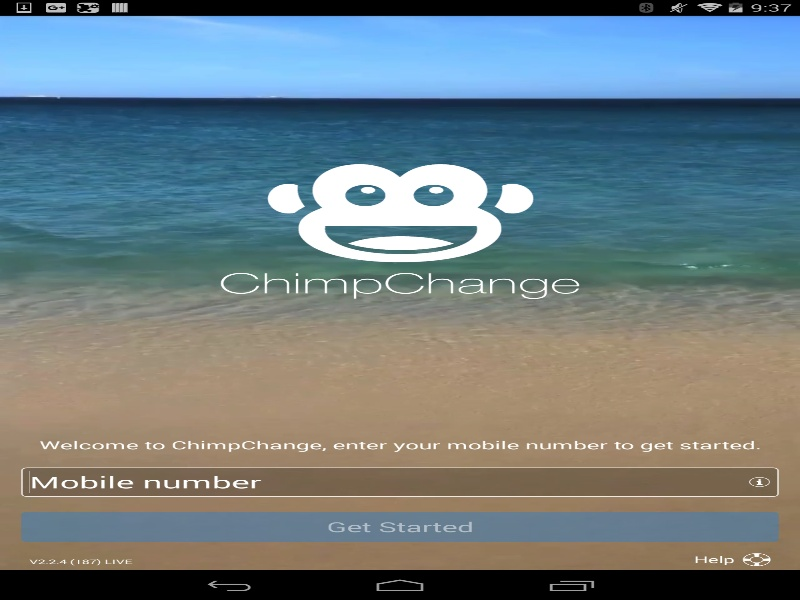Button: (21, 511, 778, 541), (749, 477, 778, 487)
Input: (21, 467, 778, 496)
